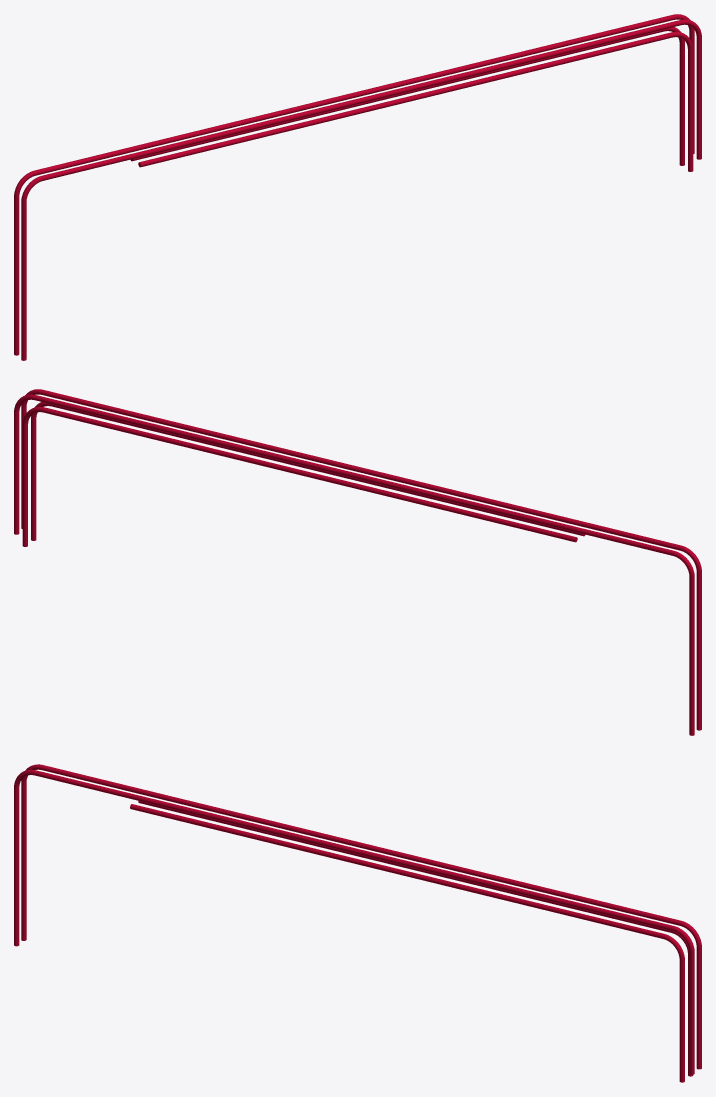
The model's file is 04_02_02_Bewehrung_WS_A.gltf.
3 views of the same model, one above another, from view 1: azimuth 30°, elevation 25°; view 2: azimuth 150°, elevation 25°; view 3: azimuth 330°, elevation 25° (orthographic).
Visible parts, largest first — view 1: A; view 2: A; view 3: A.
Boxes of the visible parts, bbox=[...] form: A: bbox=[14, 14, 701, 360]; A: bbox=[14, 389, 701, 735]; A: bbox=[14, 764, 701, 1082].
Size of the model in its own units: 294 by 74 by 8.2.
